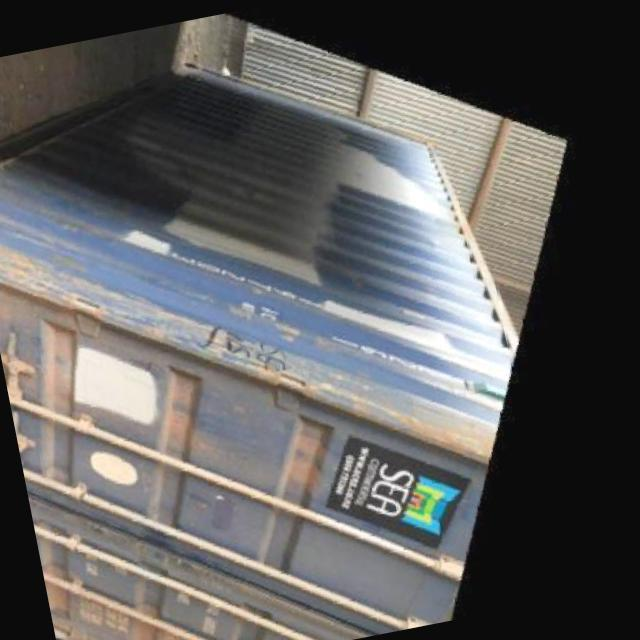rust: (14, 226, 103, 335), (200, 308, 302, 390), (271, 415, 350, 490)
